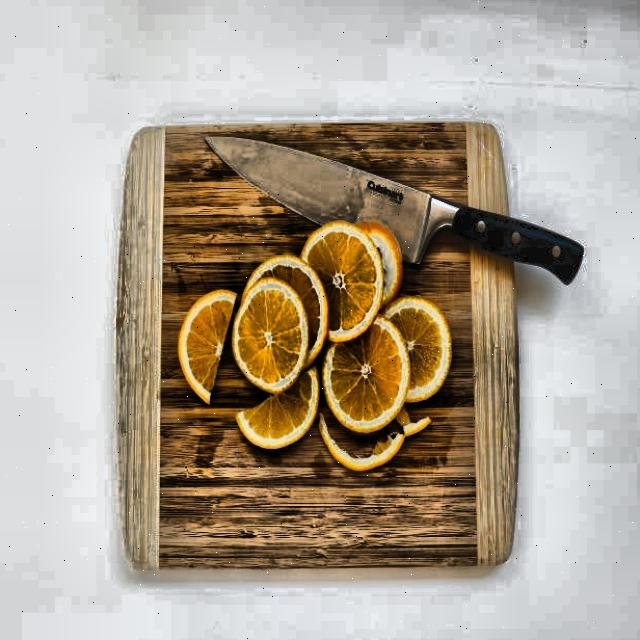knife: (198, 125, 594, 308)
